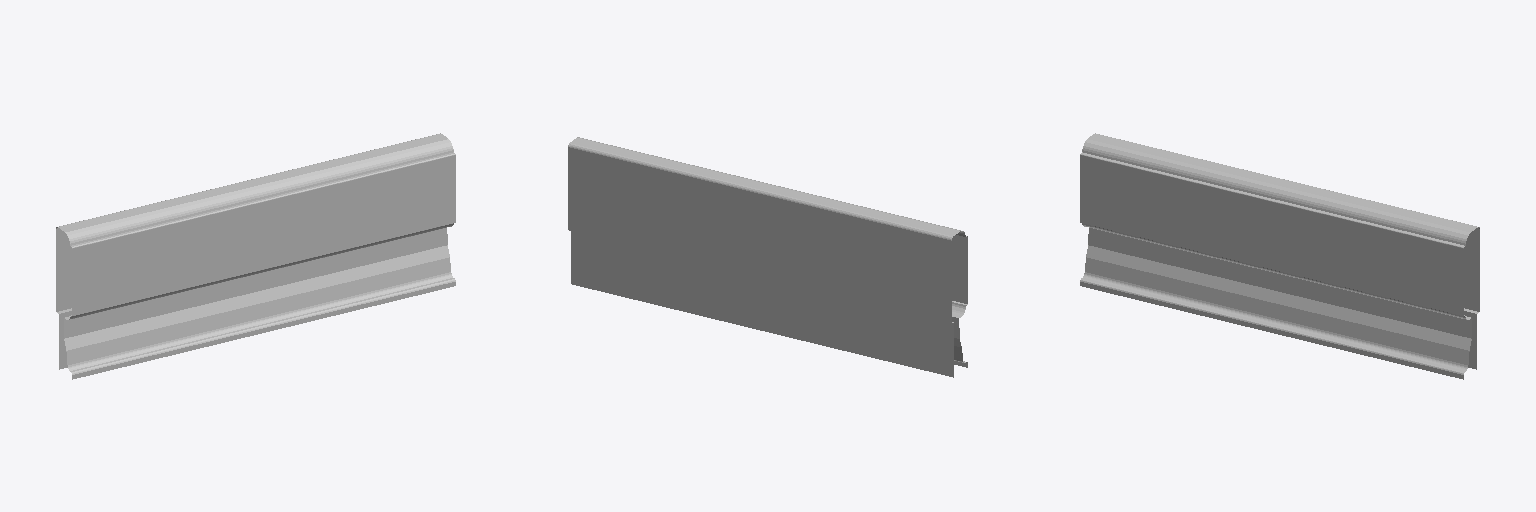
Rendered from original-91.obj.
3 renders of one model, left to right at view 1: azimuth 30°, elevation 25°; view 2: azimuth 150°, elevation 25°; view 3: azimuth 330°, elevation 25°, orthographic.
Visible parts, largest first — view 1: LT_11_TC1/LT_11_TC/mesh43/mesh43-geometry#mesh43-geometry; view 2: LT_11_TC1/LT_11_TC/mesh43/mesh43-geometry#mesh43-geometry; view 3: LT_11_TC1/LT_11_TC/mesh43/mesh43-geometry#mesh43-geometry.
Part boxes in pixels (x1,y1,x2,y2): LT_11_TC1/LT_11_TC/mesh43/mesh43-geometry#mesh43-geometry: (56, 133, 455, 379); LT_11_TC1/LT_11_TC/mesh43/mesh43-geometry#mesh43-geometry: (568, 137, 967, 377); LT_11_TC1/LT_11_TC/mesh43/mesh43-geometry#mesh43-geometry: (1080, 133, 1479, 379).
Bounding box in the file's own units: 0.3685 × 0.1303 × 0.027.